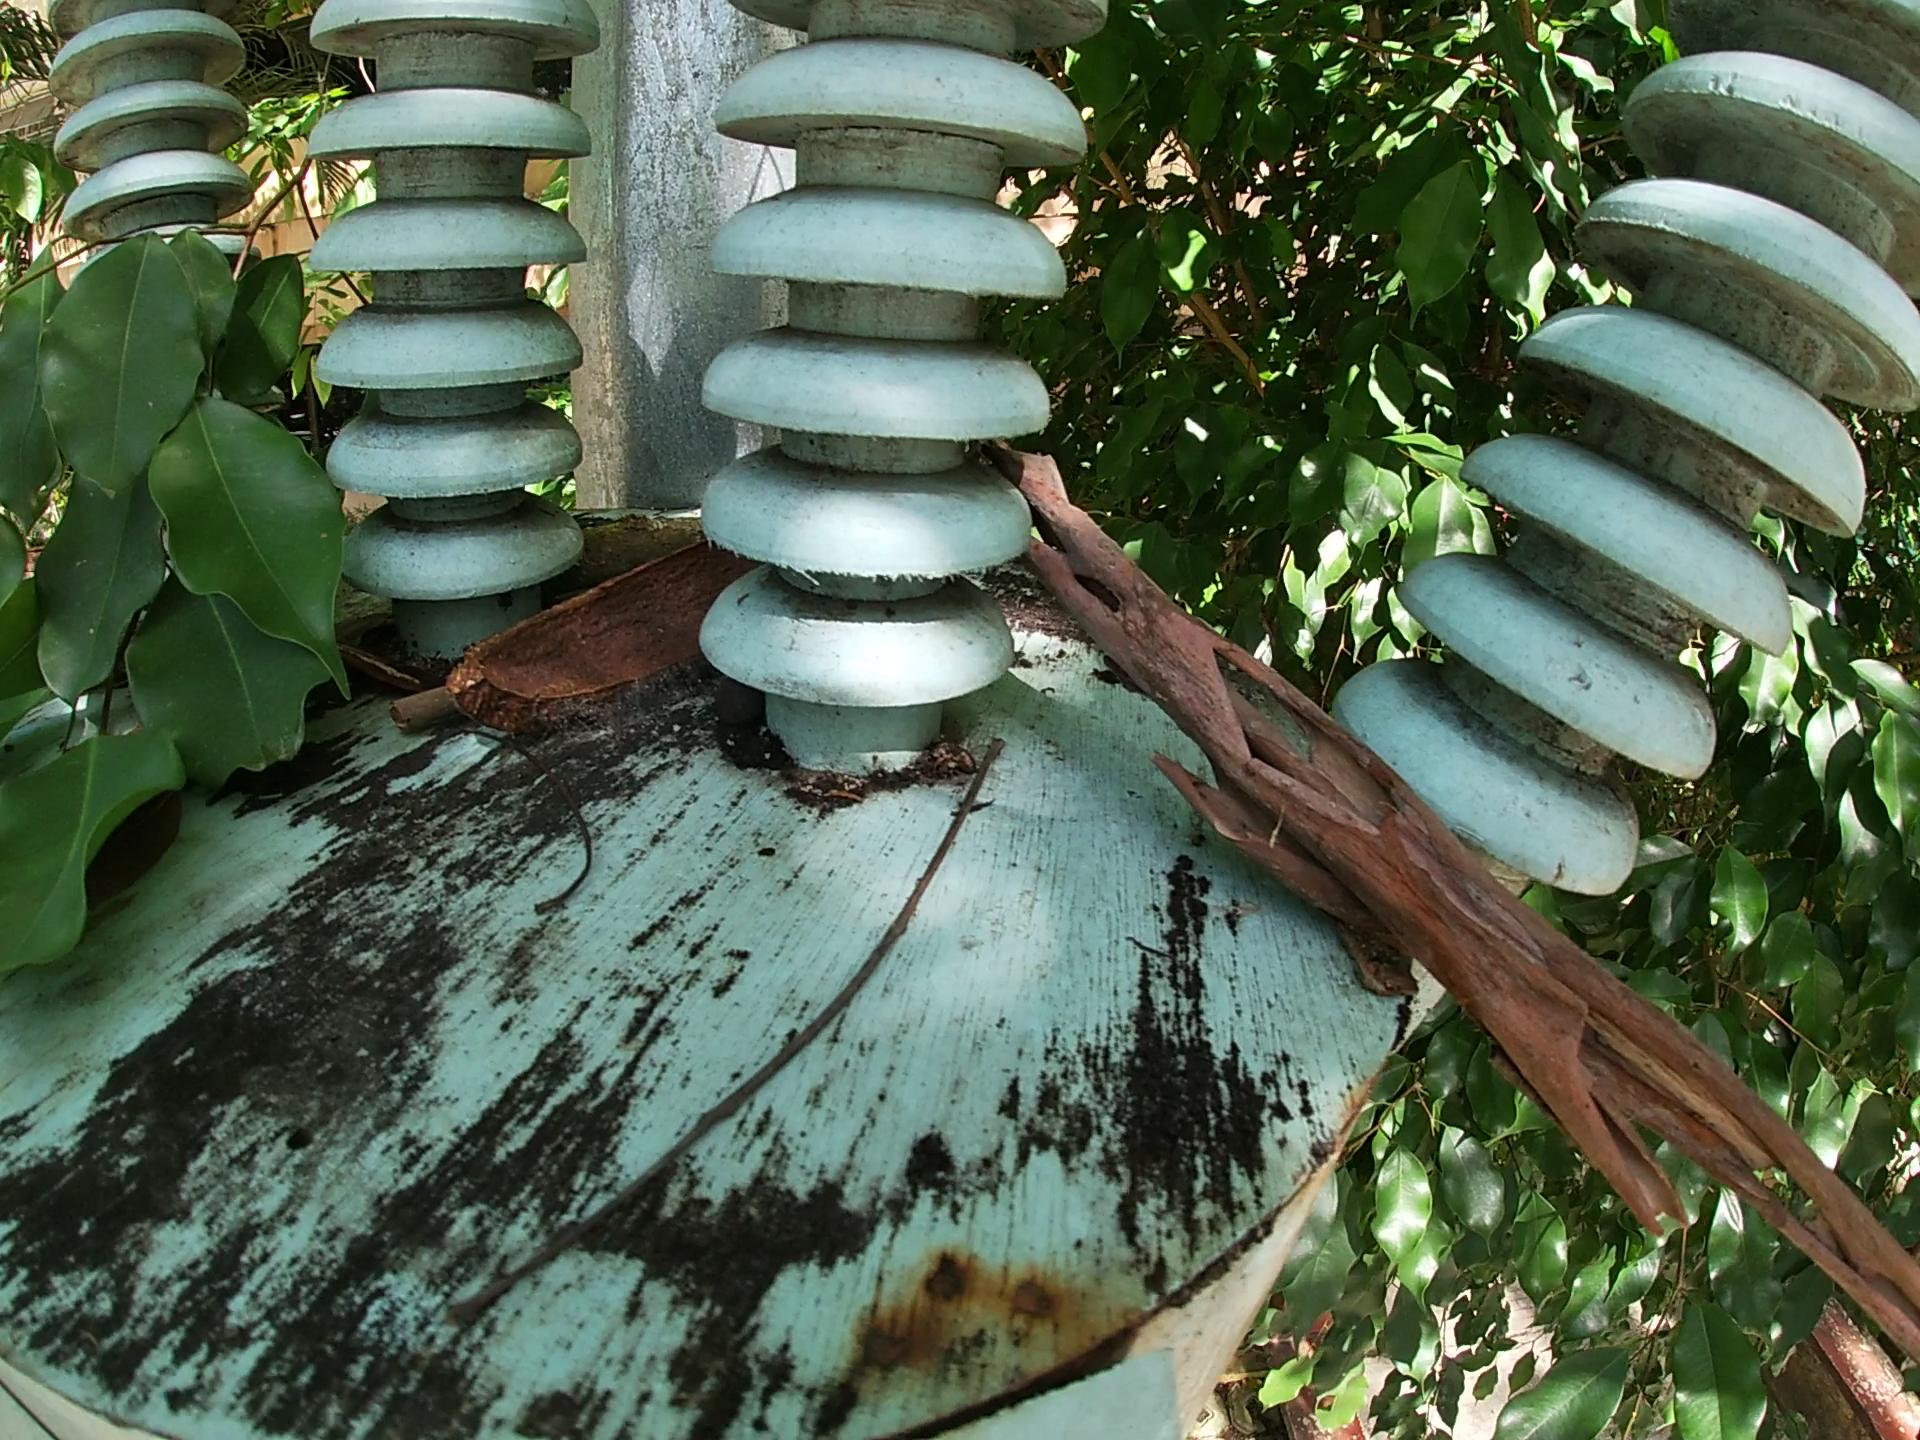branch with leaves: (14, 88, 373, 1013)
mahogany fruit: (443, 490, 819, 728)
tree branch: (1005, 430, 1915, 1367), (426, 731, 1022, 1345), (447, 729, 602, 920), (562, 514, 700, 576), (379, 688, 447, 737)
